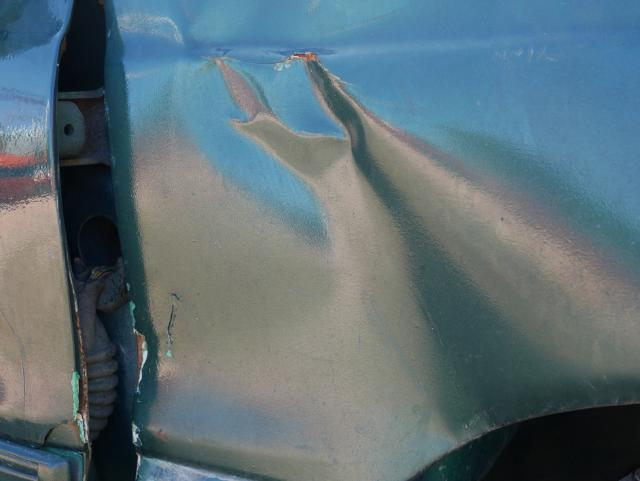Door: (0, 0, 119, 481)
Fender: (108, 4, 640, 481)
